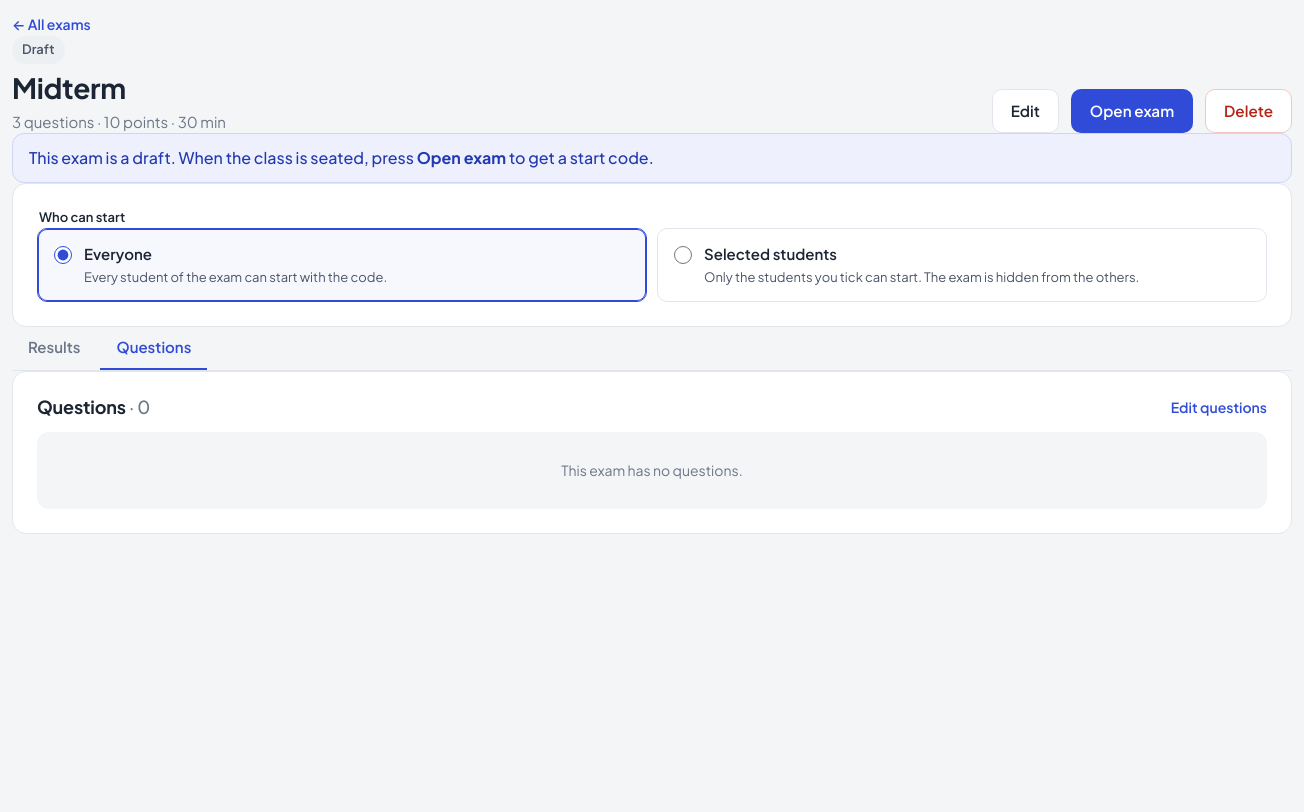
Scenario: open dialog: everyone or selected students › opens for the ticked students, with search
Later steps or results of the test are not shown.
Step 1. Click the radio button labelled "Selected students" → (683, 254), box [674,246,692,264]
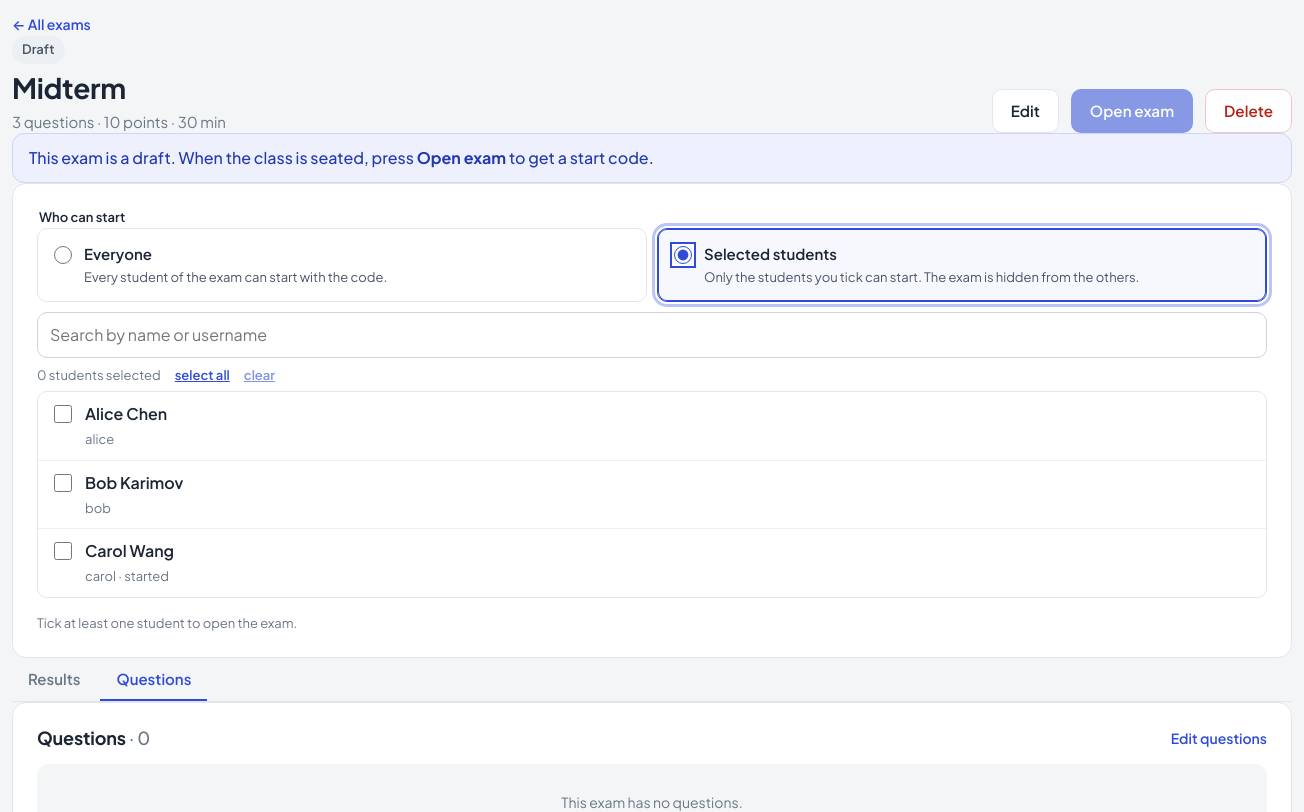
Result: the button "Open exam" is disabled at [1071,89,1193,133]
Step 2. Type "bob" into the search field named "Search students" → (652, 335), box [37,312,1267,358]
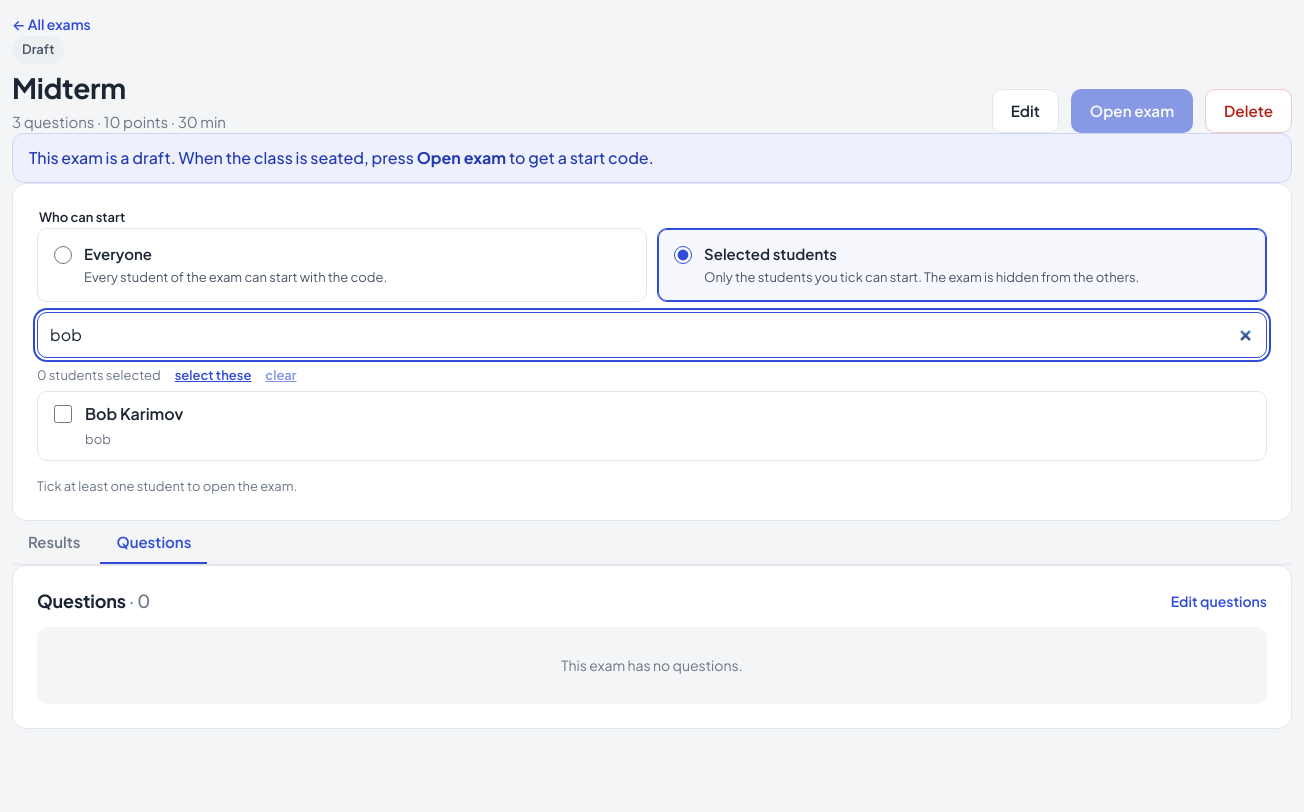
Result: the text "Alice Chen" is gone
Step 3. Click the checkbox labelled "Bob Karimov bob" → (63, 414), box [54,405,72,423]
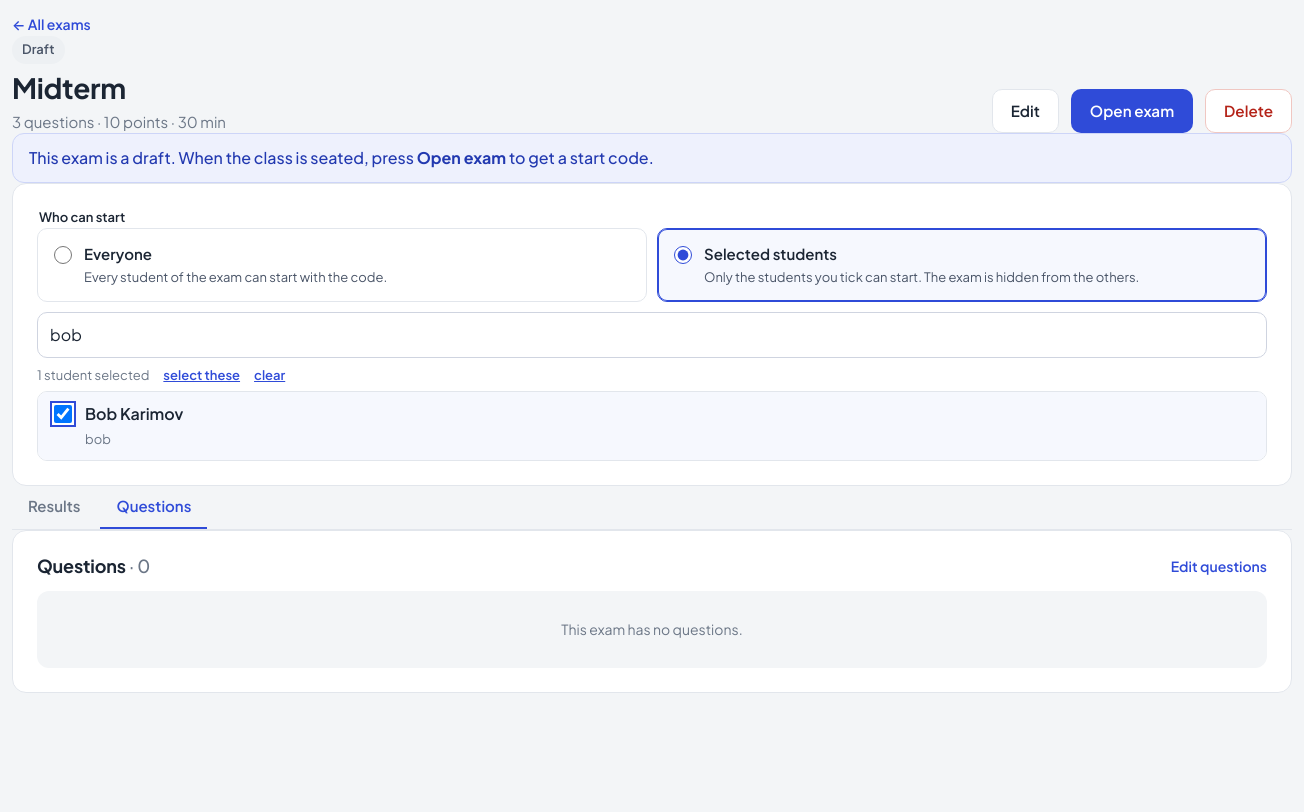
Result: the text "1 student selected" is shown at [37,366,149,385]
